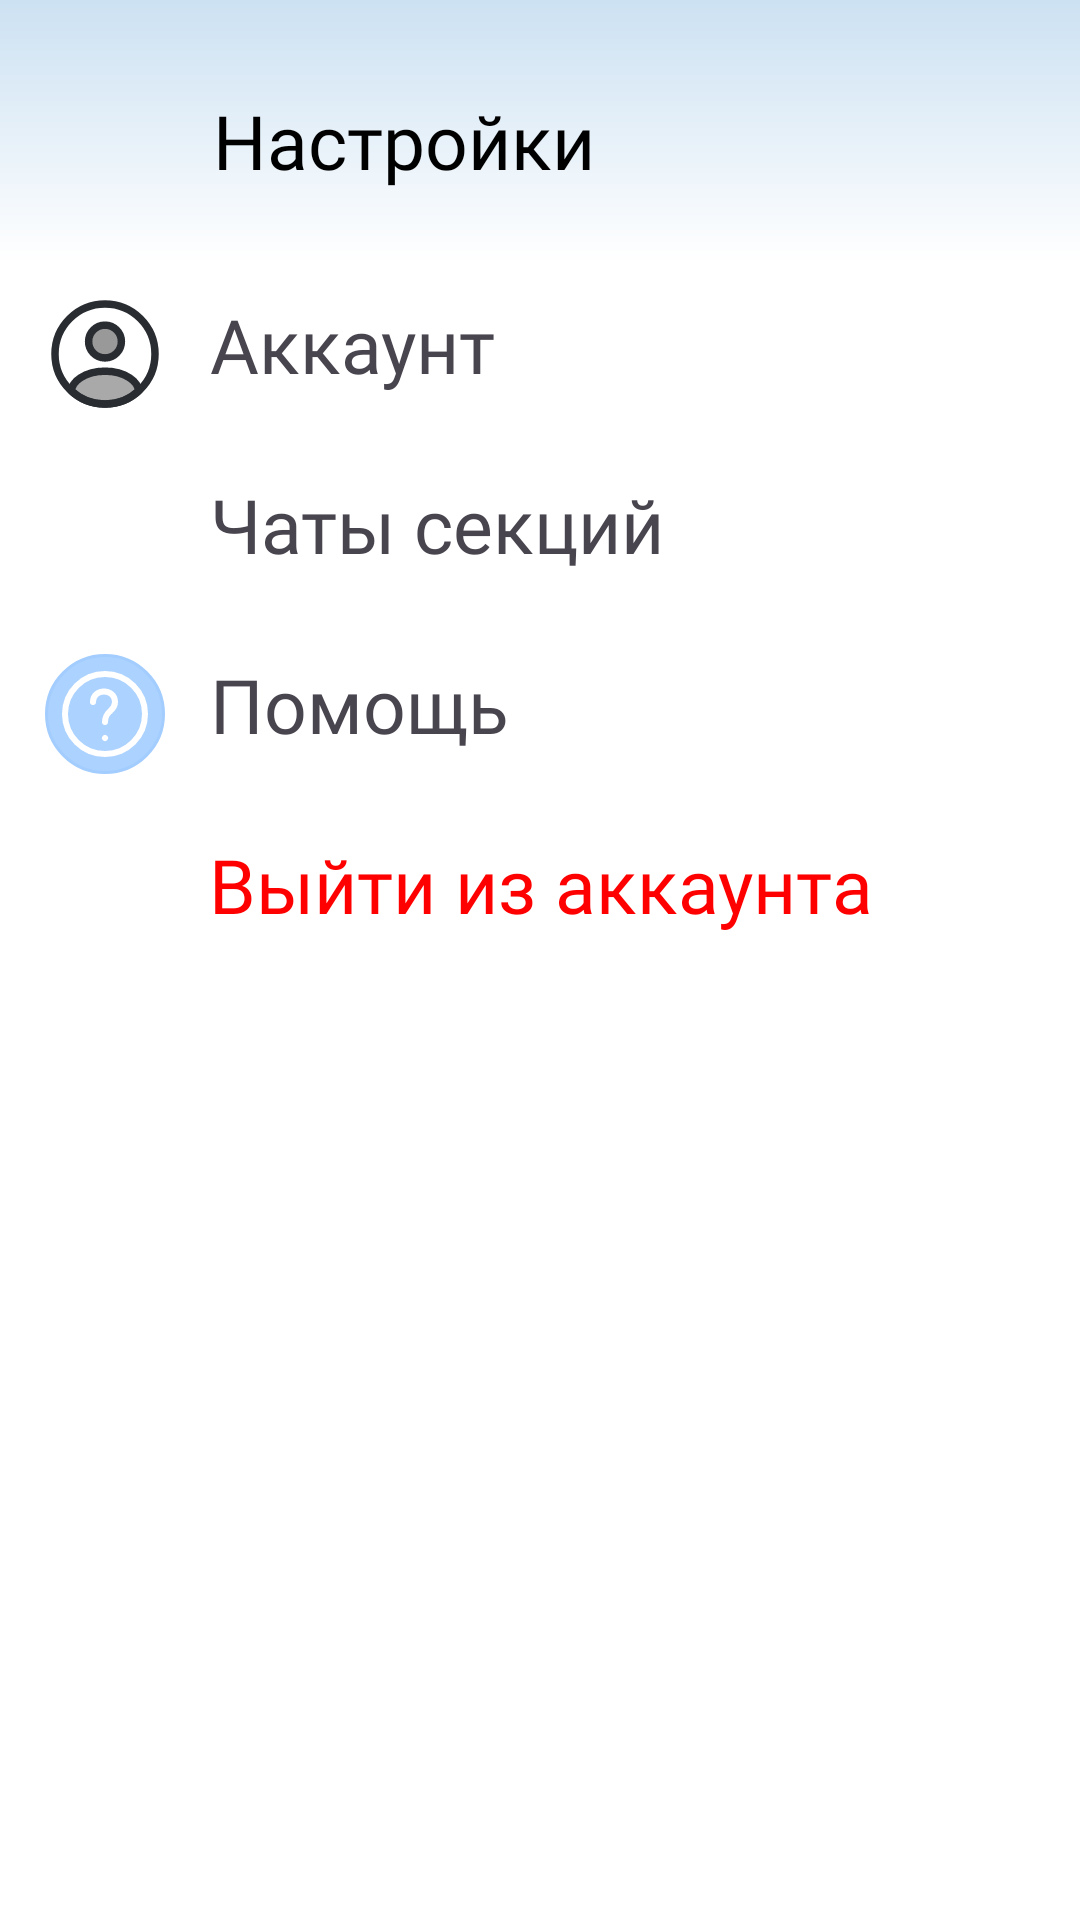

Where icons sit on this 1080×1920 app screen, as (x1, y1, x2, y2):
account: (51, 300, 159, 408)
question: (45, 654, 165, 774)
